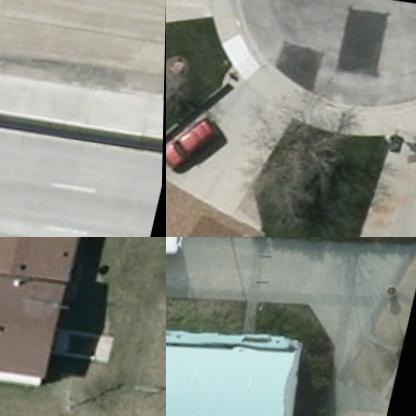car: (166, 101, 227, 178)
